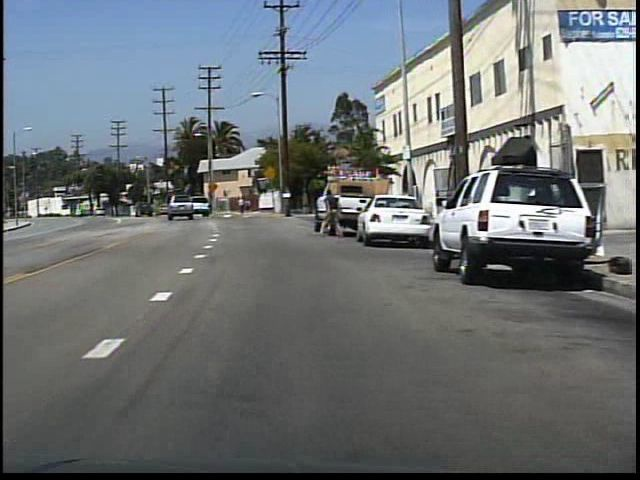person: (319, 185, 341, 241), (235, 195, 245, 217), (242, 197, 252, 215)
